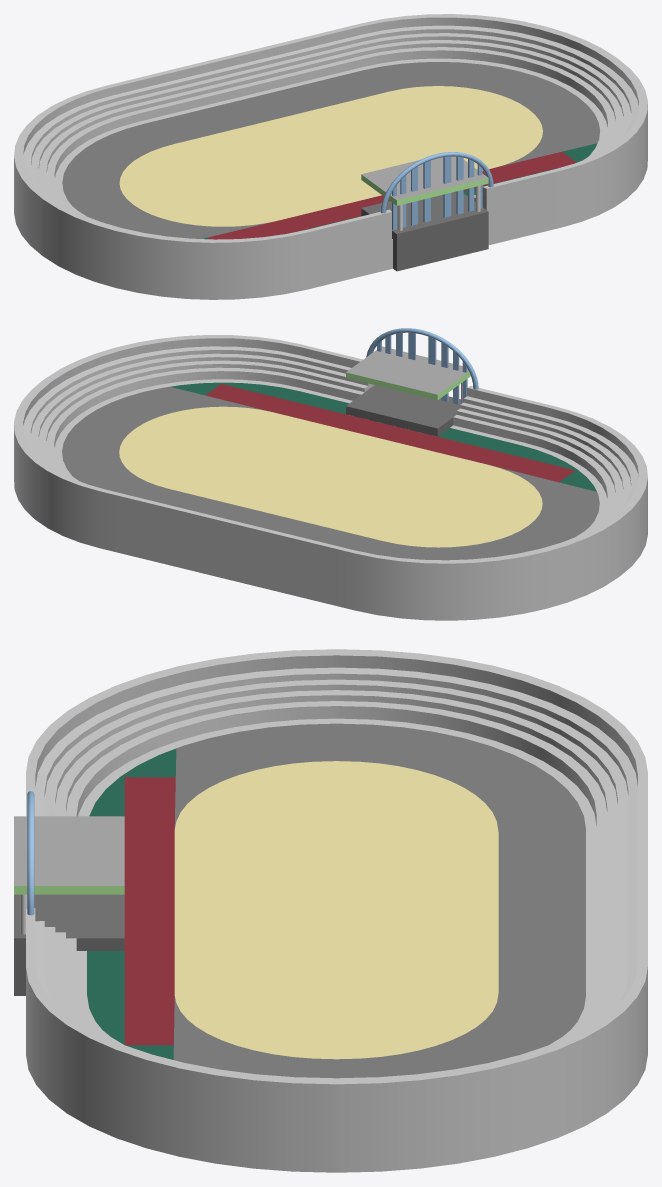
The model's file is 종합운동장.fbx.
3 renders of one model, top to bottom at view 1: azimuth 30°, elevation 25°; view 2: azimuth 150°, elevation 25°; view 3: azimuth 270°, elevation 25°, orthographic. The views are drawn at different scales.
Visible parts, largest first — view 1: 1, Cube.048, Torus, Cube.049; view 2: 1, Cube.049, Cube.048, Torus; view 3: 1, Cube.049, Cube.048, Torus.
Part boxes in pixels (box(x1,y1,x2,y2)): 1: box(14, 14, 647, 299); Cube.048: box(361, 191, 488, 271); Torus: box(380, 152, 493, 230); Cube.049: box(361, 156, 488, 205); 1: box(14, 335, 647, 620); Cube.049: box(346, 346, 470, 400); Cube.048: box(346, 385, 460, 436); Torus: box(366, 328, 478, 404); 1: box(26, 649, 647, 1172); Cube.049: box(14, 816, 124, 894); Cube.048: box(14, 894, 124, 995); Torus: box(27, 791, 34, 915).
Bounding box in the file's own units: 2815 × 478 × 1734.
